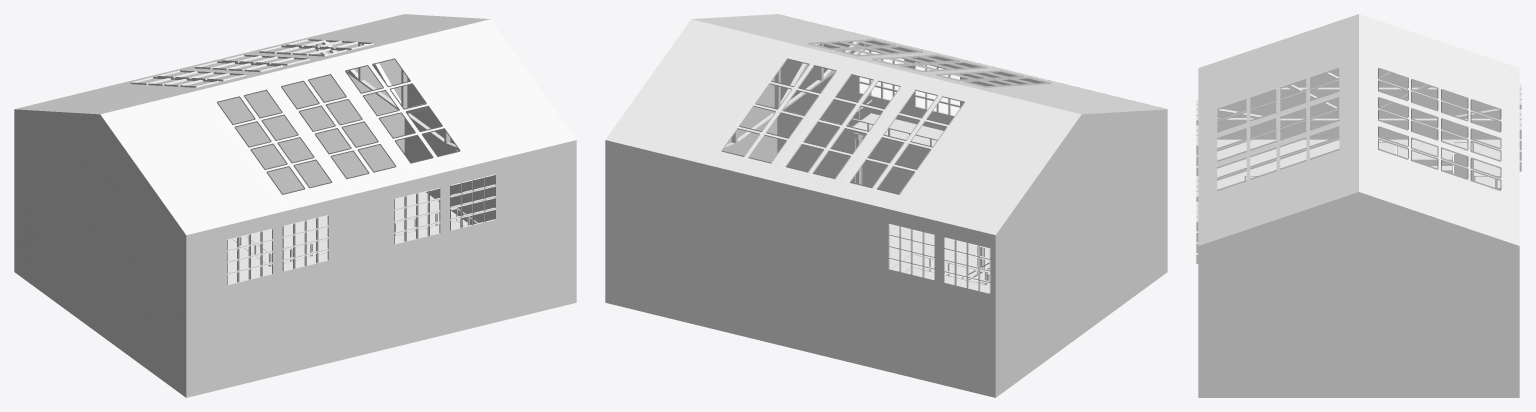
The picture shows the model from 3 angles, left to right: view 1: azimuth 30°, elevation 25°; view 2: azimuth 150°, elevation 25°; view 3: azimuth 270°, elevation 25°; orthographic projection. The views are drawn at different scales.
Visible parts, largest first — view 1: Box001; view 2: Box001; view 3: Box001.
Boxes of the visible parts, x1,y1,x2,y2 form: Box001: (14,14,576,397); Box001: (605,14,1167,397); Box001: (1196,14,1521,397).
Size of the model in its own units: 549 by 296 by 424.
1 material, 1 textured.
